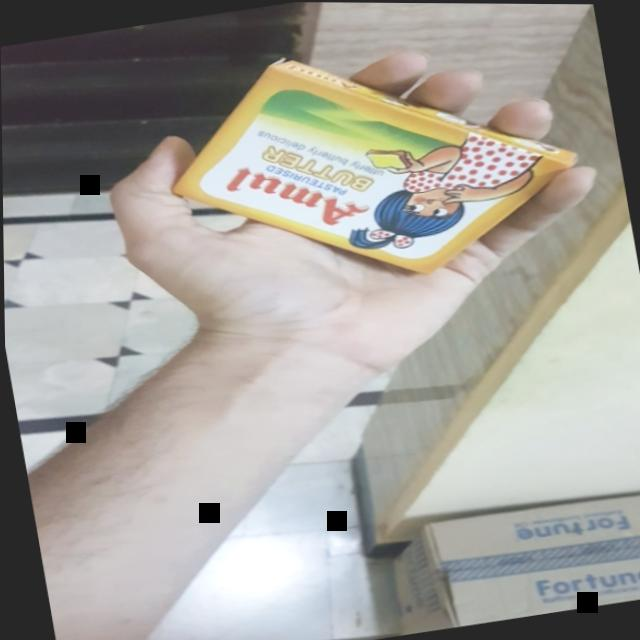butter: (138, 12, 598, 327)
